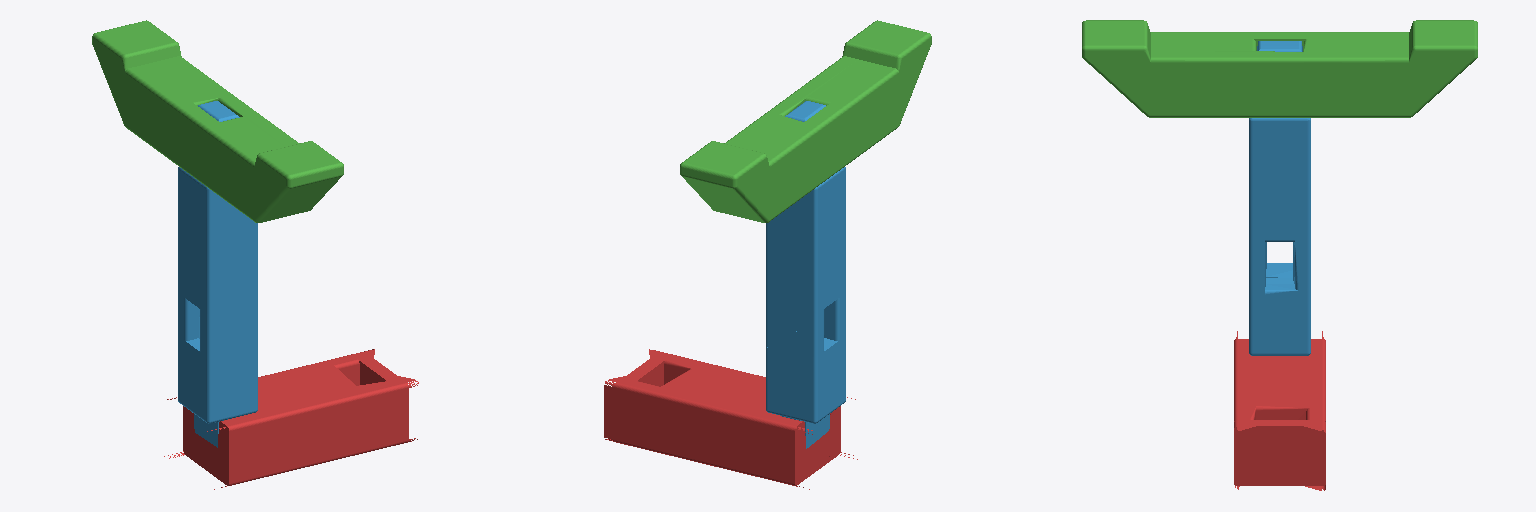
URDF robot description (fixture_beam_3x_part_3):
<?xml version="1.0" encoding="utf-8"?>
<robot name="fixture_beam_3x_part_3">
  <link name="root"/>
  <material name="part_6">
    <color rgba="0.8500 0.3000 0.3000 1.0000"/>
  </material>
  <link name="part_6">
    <visual>
      <origin xyz="0 0 0" rpy="0 0 0"/>
      <geometry>
        <mesh filename="../6/coacd/decomp_1.obj" scale="1 1 1"/>
      </geometry>
      <material name="part_6"/>
    </visual>
    <collision>
      <origin xyz="0 0 0" rpy="0 0 0"/>
      <geometry>
        <mesh filename="../6/coacd/decomp_1.obj" scale="1 1 1"/>
      </geometry>
    </collision>
    <visual>
      <origin xyz="0 0 0" rpy="0 0 0"/>
      <geometry>
        <mesh filename="../6/coacd/decomp_10.obj" scale="1 1 1"/>
      </geometry>
      <material name="part_6"/>
    </visual>
    <collision>
      <origin xyz="0 0 0" rpy="0 0 0"/>
      <geometry>
        <mesh filename="../6/coacd/decomp_10.obj" scale="1 1 1"/>
      </geometry>
    </collision>
    <visual>
      <origin xyz="0 0 0" rpy="0 0 0"/>
      <geometry>
        <mesh filename="../6/coacd/decomp_11.obj" scale="1 1 1"/>
      </geometry>
      <material name="part_6"/>
    </visual>
    <collision>
      <origin xyz="0 0 0" rpy="0 0 0"/>
      <geometry>
        <mesh filename="../6/coacd/decomp_11.obj" scale="1 1 1"/>
      </geometry>
    </collision>
    <visual>
      <origin xyz="0 0 0" rpy="0 0 0"/>
      <geometry>
        <mesh filename="../6/coacd/decomp_2.obj" scale="1 1 1"/>
      </geometry>
      <material name="part_6"/>
    </visual>
    <collision>
      <origin xyz="0 0 0" rpy="0 0 0"/>
      <geometry>
        <mesh filename="../6/coacd/decomp_2.obj" scale="1 1 1"/>
      </geometry>
    </collision>
    <visual>
      <origin xyz="0 0 0" rpy="0 0 0"/>
      <geometry>
        <mesh filename="../6/coacd/decomp_4.obj" scale="1 1 1"/>
      </geometry>
      <material name="part_6"/>
    </visual>
    <collision>
      <origin xyz="0 0 0" rpy="0 0 0"/>
      <geometry>
        <mesh filename="../6/coacd/decomp_4.obj" scale="1 1 1"/>
      </geometry>
    </collision>
    <visual>
      <origin xyz="0 0 0" rpy="0 0 0"/>
      <geometry>
        <mesh filename="../6/coacd/decomp_5.obj" scale="1 1 1"/>
      </geometry>
      <material name="part_6"/>
    </visual>
    <collision>
      <origin xyz="0 0 0" rpy="0 0 0"/>
      <geometry>
        <mesh filename="../6/coacd/decomp_5.obj" scale="1 1 1"/>
      </geometry>
    </collision>
    <visual>
      <origin xyz="0 0 0" rpy="0 0 0"/>
      <geometry>
        <mesh filename="../6/coacd/decomp_6.obj" scale="1 1 1"/>
      </geometry>
      <material name="part_6"/>
    </visual>
    <collision>
      <origin xyz="0 0 0" rpy="0 0 0"/>
      <geometry>
        <mesh filename="../6/coacd/decomp_6.obj" scale="1 1 1"/>
      </geometry>
    </collision>
    <visual>
      <origin xyz="0 0 0" rpy="0 0 0"/>
      <geometry>
        <mesh filename="../6/coacd/decomp_8.obj" scale="1 1 1"/>
      </geometry>
      <material name="part_6"/>
    </visual>
    <collision>
      <origin xyz="0 0 0" rpy="0 0 0"/>
      <geometry>
        <mesh filename="../6/coacd/decomp_8.obj" scale="1 1 1"/>
      </geometry>
    </collision>
    <visual>
      <origin xyz="0 0 0" rpy="0 0 0"/>
      <geometry>
        <mesh filename="../6/coacd/decomp_9.obj" scale="1 1 1"/>
      </geometry>
      <material name="part_6"/>
    </visual>
    <collision>
      <origin xyz="0 0 0" rpy="0 0 0"/>
      <geometry>
        <mesh filename="../6/coacd/decomp_9.obj" scale="1 1 1"/>
      </geometry>
    </collision>
  </link>
  <joint name="root_to_part_6" type="fixed">
    <parent link="root"/>
    <child link="part_6"/>
    <origin xyz="-0.000000 -0.000000 0.018998" rpy="0.000000 0.000000 0.000000"/>
  </joint>
  <material name="part_2">
    <color rgba="0.3000 0.6500 0.8500 1.0000"/>
  </material>
  <link name="part_2">
    <visual>
      <origin xyz="0 0 0" rpy="0 0 0"/>
      <geometry>
        <mesh filename="../2/coacd/decomp_0.obj" scale="1 1 1"/>
      </geometry>
      <material name="part_2"/>
    </visual>
    <collision>
      <origin xyz="0 0 0" rpy="0 0 0"/>
      <geometry>
        <mesh filename="../2/coacd/decomp_0.obj" scale="1 1 1"/>
      </geometry>
    </collision>
    <visual>
      <origin xyz="0 0 0" rpy="0 0 0"/>
      <geometry>
        <mesh filename="../2/coacd/decomp_1.obj" scale="1 1 1"/>
      </geometry>
      <material name="part_2"/>
    </visual>
    <collision>
      <origin xyz="0 0 0" rpy="0 0 0"/>
      <geometry>
        <mesh filename="../2/coacd/decomp_1.obj" scale="1 1 1"/>
      </geometry>
    </collision>
    <visual>
      <origin xyz="0 0 0" rpy="0 0 0"/>
      <geometry>
        <mesh filename="../2/coacd/decomp_10.obj" scale="1 1 1"/>
      </geometry>
      <material name="part_2"/>
    </visual>
    <collision>
      <origin xyz="0 0 0" rpy="0 0 0"/>
      <geometry>
        <mesh filename="../2/coacd/decomp_10.obj" scale="1 1 1"/>
      </geometry>
    </collision>
    <visual>
      <origin xyz="0 0 0" rpy="0 0 0"/>
      <geometry>
        <mesh filename="../2/coacd/decomp_11.obj" scale="1 1 1"/>
      </geometry>
      <material name="part_2"/>
    </visual>
    <collision>
      <origin xyz="0 0 0" rpy="0 0 0"/>
      <geometry>
        <mesh filename="../2/coacd/decomp_11.obj" scale="1 1 1"/>
      </geometry>
    </collision>
    <visual>
      <origin xyz="0 0 0" rpy="0 0 0"/>
      <geometry>
        <mesh filename="../2/coacd/decomp_12.obj" scale="1 1 1"/>
      </geometry>
      <material name="part_2"/>
    </visual>
    <collision>
      <origin xyz="0 0 0" rpy="0 0 0"/>
      <geometry>
        <mesh filename="../2/coacd/decomp_12.obj" scale="1 1 1"/>
      </geometry>
    </collision>
    <visual>
      <origin xyz="0 0 0" rpy="0 0 0"/>
      <geometry>
        <mesh filename="../2/coacd/decomp_13.obj" scale="1 1 1"/>
      </geometry>
      <material name="part_2"/>
    </visual>
    <collision>
      <origin xyz="0 0 0" rpy="0 0 0"/>
      <geometry>
        <mesh filename="../2/coacd/decomp_13.obj" scale="1 1 1"/>
      </geometry>
    </collision>
    <visual>
      <origin xyz="0 0 0" rpy="0 0 0"/>
      <geometry>
        <mesh filename="../2/coacd/decomp_14.obj" scale="1 1 1"/>
      </geometry>
      <material name="part_2"/>
    </visual>
    <collision>
      <origin xyz="0 0 0" rpy="0 0 0"/>
      <geometry>
        <mesh filename="../2/coacd/decomp_14.obj" scale="1 1 1"/>
      </geometry>
    </collision>
    <visual>
      <origin xyz="0 0 0" rpy="0 0 0"/>
      <geometry>
        <mesh filename="../2/coacd/decomp_15.obj" scale="1 1 1"/>
      </geometry>
      <material name="part_2"/>
    </visual>
    <collision>
      <origin xyz="0 0 0" rpy="0 0 0"/>
      <geometry>
        <mesh filename="../2/coacd/decomp_15.obj" scale="1 1 1"/>
      </geometry>
    </collision>
    <visual>
      <origin xyz="0 0 0" rpy="0 0 0"/>
      <geometry>
        <mesh filename="../2/coacd/decomp_2.obj" scale="1 1 1"/>
      </geometry>
      <material name="part_2"/>
    </visual>
    <collision>
      <origin xyz="0 0 0" rpy="0 0 0"/>
      <geometry>
        <mesh filename="../2/coacd/decomp_2.obj" scale="1 1 1"/>
      </geometry>
    </collision>
    <visual>
      <origin xyz="0 0 0" rpy="0 0 0"/>
      <geometry>
        <mesh filename="../2/coacd/decomp_3.obj" scale="1 1 1"/>
      </geometry>
      <material name="part_2"/>
    </visual>
    <collision>
      <origin xyz="0 0 0" rpy="0 0 0"/>
      <geometry>
        <mesh filename="../2/coacd/decomp_3.obj" scale="1 1 1"/>
      </geometry>
    </collision>
    <visual>
      <origin xyz="0 0 0" rpy="0 0 0"/>
      <geometry>
        <mesh filename="../2/coacd/decomp_4.obj" scale="1 1 1"/>
      </geometry>
      <material name="part_2"/>
    </visual>
    <collision>
      <origin xyz="0 0 0" rpy="0 0 0"/>
      <geometry>
        <mesh filename="../2/coacd/decomp_4.obj" scale="1 1 1"/>
      </geometry>
    </collision>
    <visual>
      <origin xyz="0 0 0" rpy="0 0 0"/>
      <geometry>
        <mesh filename="../2/coacd/decomp_5.obj" scale="1 1 1"/>
      </geometry>
      <material name="part_2"/>
    </visual>
    <collision>
      <origin xyz="0 0 0" rpy="0 0 0"/>
      <geometry>
        <mesh filename="../2/coacd/decomp_5.obj" scale="1 1 1"/>
      </geometry>
    </collision>
    <visual>
      <origin xyz="0 0 0" rpy="0 0 0"/>
      <geometry>
        <mesh filename="../2/coacd/decomp_6.obj" scale="1 1 1"/>
      </geometry>
      <material name="part_2"/>
    </visual>
    <collision>
      <origin xyz="0 0 0" rpy="0 0 0"/>
      <geometry>
        <mesh filename="../2/coacd/decomp_6.obj" scale="1 1 1"/>
      </geometry>
    </collision>
    <visual>
      <origin xyz="0 0 0" rpy="0 0 0"/>
      <geometry>
        <mesh filename="../2/coacd/decomp_7.obj" scale="1 1 1"/>
      </geometry>
      <material name="part_2"/>
    </visual>
    <collision>
      <origin xyz="0 0 0" rpy="0 0 0"/>
      <geometry>
        <mesh filename="../2/coacd/decomp_7.obj" scale="1 1 1"/>
      </geometry>
    </collision>
    <visual>
      <origin xyz="0 0 0" rpy="0 0 0"/>
      <geometry>
        <mesh filename="../2/coacd/decomp_8.obj" scale="1 1 1"/>
      </geometry>
      <material name="part_2"/>
    </visual>
    <collision>
      <origin xyz="0 0 0" rpy="0 0 0"/>
      <geometry>
        <mesh filename="../2/coacd/decomp_8.obj" scale="1 1 1"/>
      </geometry>
    </collision>
    <visual>
      <origin xyz="0 0 0" rpy="0 0 0"/>
      <geometry>
        <mesh filename="../2/coacd/decomp_9.obj" scale="1 1 1"/>
      </geometry>
      <material name="part_2"/>
    </visual>
    <collision>
      <origin xyz="0 0 0" rpy="0 0 0"/>
      <geometry>
        <mesh filename="../2/coacd/decomp_9.obj" scale="1 1 1"/>
      </geometry>
    </collision>
  </link>
  <joint name="root_to_part_2" type="fixed">
    <parent link="root"/>
    <child link="part_2"/>
    <origin xyz="-0.047625 -0.000000 0.113075" rpy="0.000000 -1.570796 0.000000"/>
  </joint>
  <material name="part_0">
    <color rgba="0.4000 0.7500 0.3500 1.0000"/>
  </material>
  <link name="part_0">
    <visual>
      <origin xyz="0 0 0" rpy="0 0 0"/>
      <geometry>
        <mesh filename="../0/coacd/decomp_0.obj" scale="1 1 1"/>
      </geometry>
      <material name="part_0"/>
    </visual>
    <collision>
      <origin xyz="0 0 0" rpy="0 0 0"/>
      <geometry>
        <mesh filename="../0/coacd/decomp_0.obj" scale="1 1 1"/>
      </geometry>
    </collision>
    <visual>
      <origin xyz="0 0 0" rpy="0 0 0"/>
      <geometry>
        <mesh filename="../0/coacd/decomp_1.obj" scale="1 1 1"/>
      </geometry>
      <material name="part_0"/>
    </visual>
    <collision>
      <origin xyz="0 0 0" rpy="0 0 0"/>
      <geometry>
        <mesh filename="../0/coacd/decomp_1.obj" scale="1 1 1"/>
      </geometry>
    </collision>
    <visual>
      <origin xyz="0 0 0" rpy="0 0 0"/>
      <geometry>
        <mesh filename="../0/coacd/decomp_2.obj" scale="1 1 1"/>
      </geometry>
      <material name="part_0"/>
    </visual>
    <collision>
      <origin xyz="0 0 0" rpy="0 0 0"/>
      <geometry>
        <mesh filename="../0/coacd/decomp_2.obj" scale="1 1 1"/>
      </geometry>
    </collision>
    <visual>
      <origin xyz="0 0 0" rpy="0 0 0"/>
      <geometry>
        <mesh filename="../0/coacd/decomp_3.obj" scale="1 1 1"/>
      </geometry>
      <material name="part_0"/>
    </visual>
    <collision>
      <origin xyz="0 0 0" rpy="0 0 0"/>
      <geometry>
        <mesh filename="../0/coacd/decomp_3.obj" scale="1 1 1"/>
      </geometry>
    </collision>
    <visual>
      <origin xyz="0 0 0" rpy="0 0 0"/>
      <geometry>
        <mesh filename="../0/coacd/decomp_4.obj" scale="1 1 1"/>
      </geometry>
      <material name="part_0"/>
    </visual>
    <collision>
      <origin xyz="0 0 0" rpy="0 0 0"/>
      <geometry>
        <mesh filename="../0/coacd/decomp_4.obj" scale="1 1 1"/>
      </geometry>
    </collision>
    <visual>
      <origin xyz="0 0 0" rpy="0 0 0"/>
      <geometry>
        <mesh filename="../0/coacd/decomp_5.obj" scale="1 1 1"/>
      </geometry>
      <material name="part_0"/>
    </visual>
    <collision>
      <origin xyz="0 0 0" rpy="0 0 0"/>
      <geometry>
        <mesh filename="../0/coacd/decomp_5.obj" scale="1 1 1"/>
      </geometry>
    </collision>
  </link>
  <joint name="root_to_part_0" type="fixed">
    <parent link="root"/>
    <child link="part_0"/>
    <origin xyz="-0.047625 -0.000000 0.213365" rpy="1.570796 0.000000 -1.570796"/>
  </joint>
</robot>

--- Render facts (derived) ---
Views: 3 orthographic renders of the robot side by side, from view 1: azimuth 30°, elevation 25°; view 2: azimuth 150°, elevation 25°; view 3: azimuth 270°, elevation 25°.
Model fixture_beam_3x_part_3 with 4 links and 3 joints (3 fixed), rooted at root, posed every joint at zero.
Links seen in each view (by area): view 1: part_0, part_2, part_6; view 2: part_0, part_6, part_2; view 3: part_0, part_2, part_6.
Link boxes in pixels (left/top/right/bottom): part_0: left=92, top=20, right=343, bottom=222; part_2: left=178, top=101, right=257, bottom=447; part_6: left=164, top=349, right=418, bottom=489; part_0: left=680, top=20, right=931, bottom=222; part_6: left=604, top=349, right=857, bottom=489; part_2: left=766, top=101, right=845, bottom=448; part_0: left=1082, top=20, right=1477, bottom=117; part_2: left=1249, top=41, right=1310, bottom=355; part_6: left=1234, top=331, right=1325, bottom=490.
Size in the robot's own frame: 0.1415 by 0.2286 by 0.2362 metres.
31 mesh visuals loaded from 31 distinct referenced files (31 OBJ).
